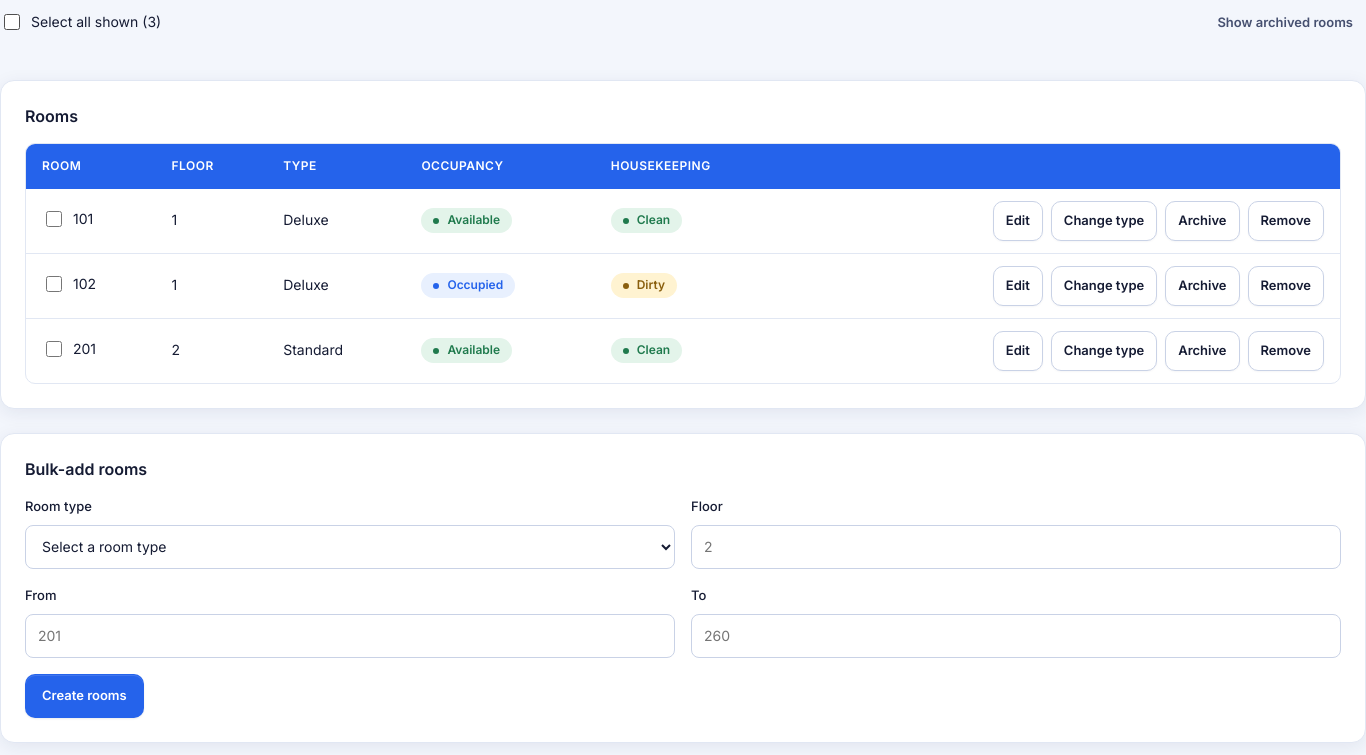
Test: <RoomsTab> › managing rooms after creation › archive › cannot be confirmed without a reason, then archives the room and reports the cleared links
Expected: the text "101" is shown, [42,208,93,230]
Click the button "Archive" in the row of "101" at (1202, 221), box [1165,201,1240,241]
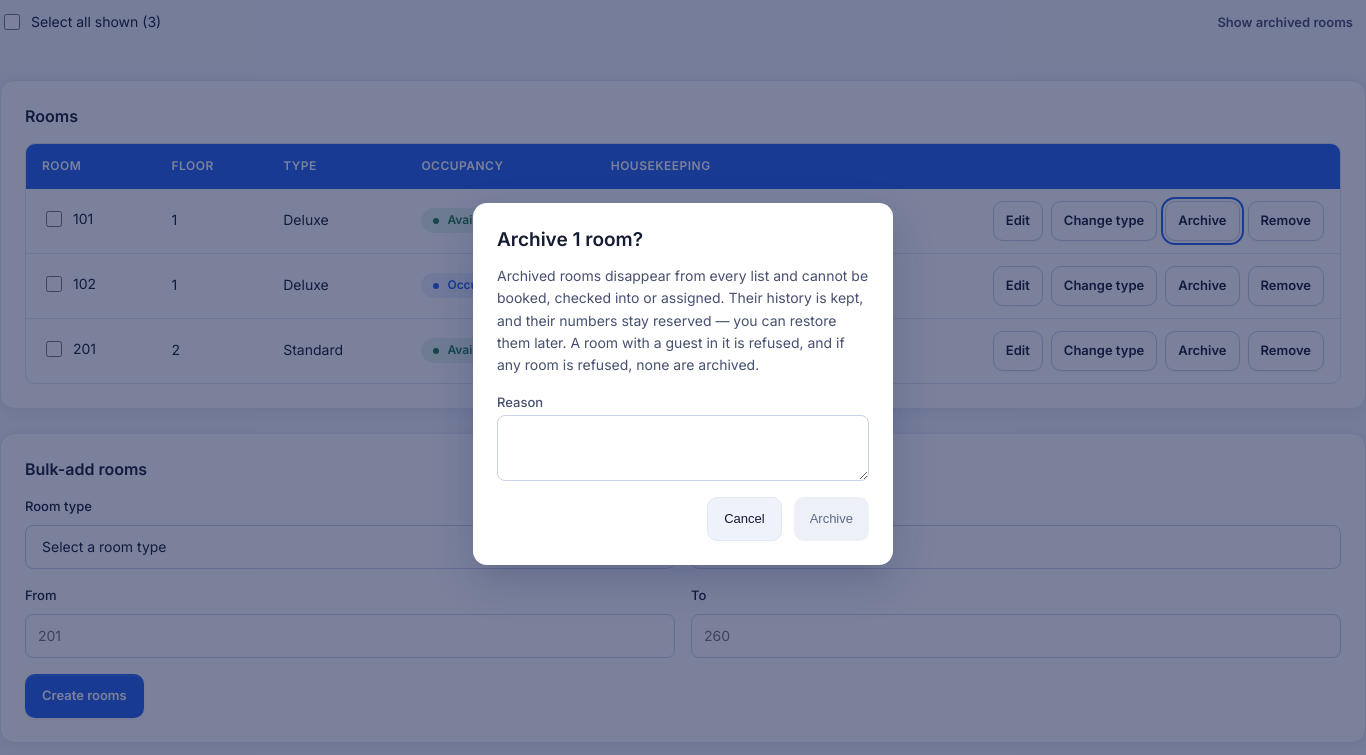
Result: the button "Archive" is disabled at [794,497,869,541]
Type "closed for refit" into the text box labelled "Reason" at (683, 448), box [497,415,869,481]
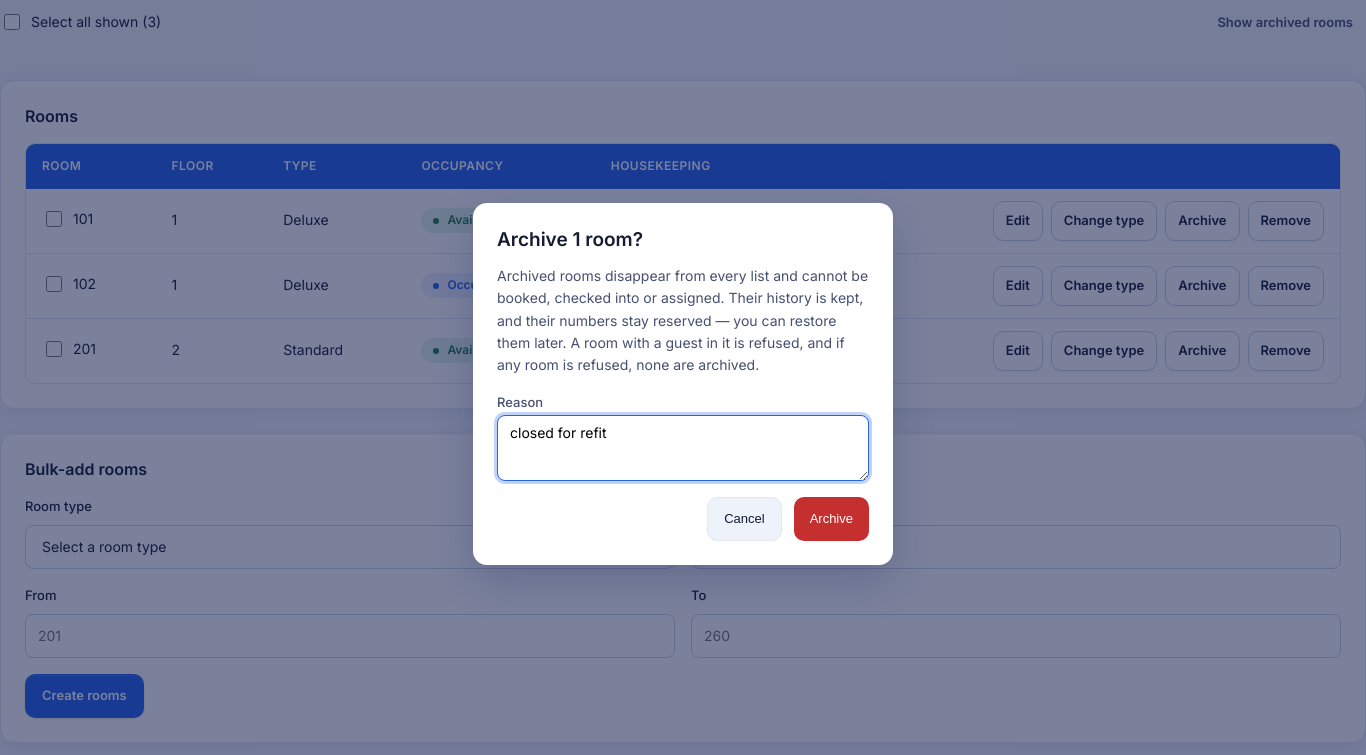
Click the button "Archive" at (831, 519), box [794,497,869,541]
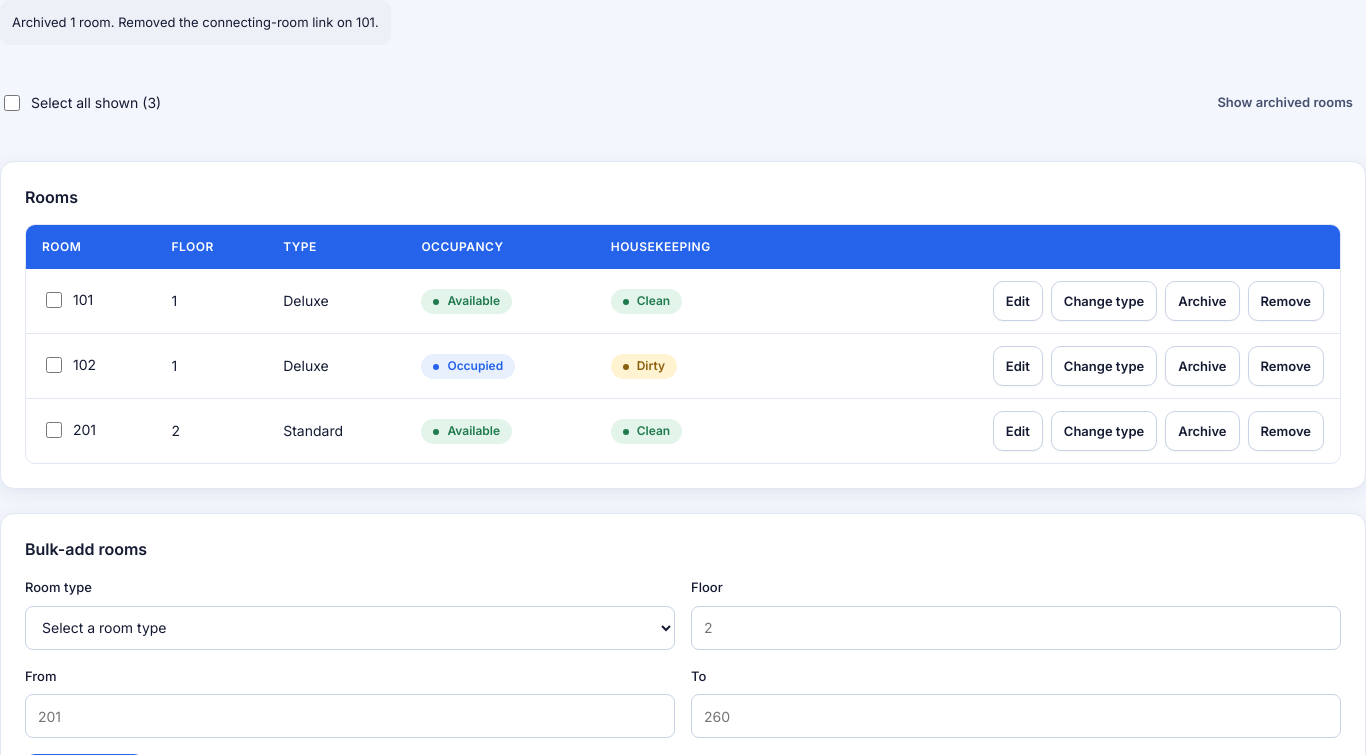
Result: the message shows "Archived 1 room." at [12,14,379,30]
Result: the message shows "Removed the connecting-room link on 101." at [12,14,379,30]
